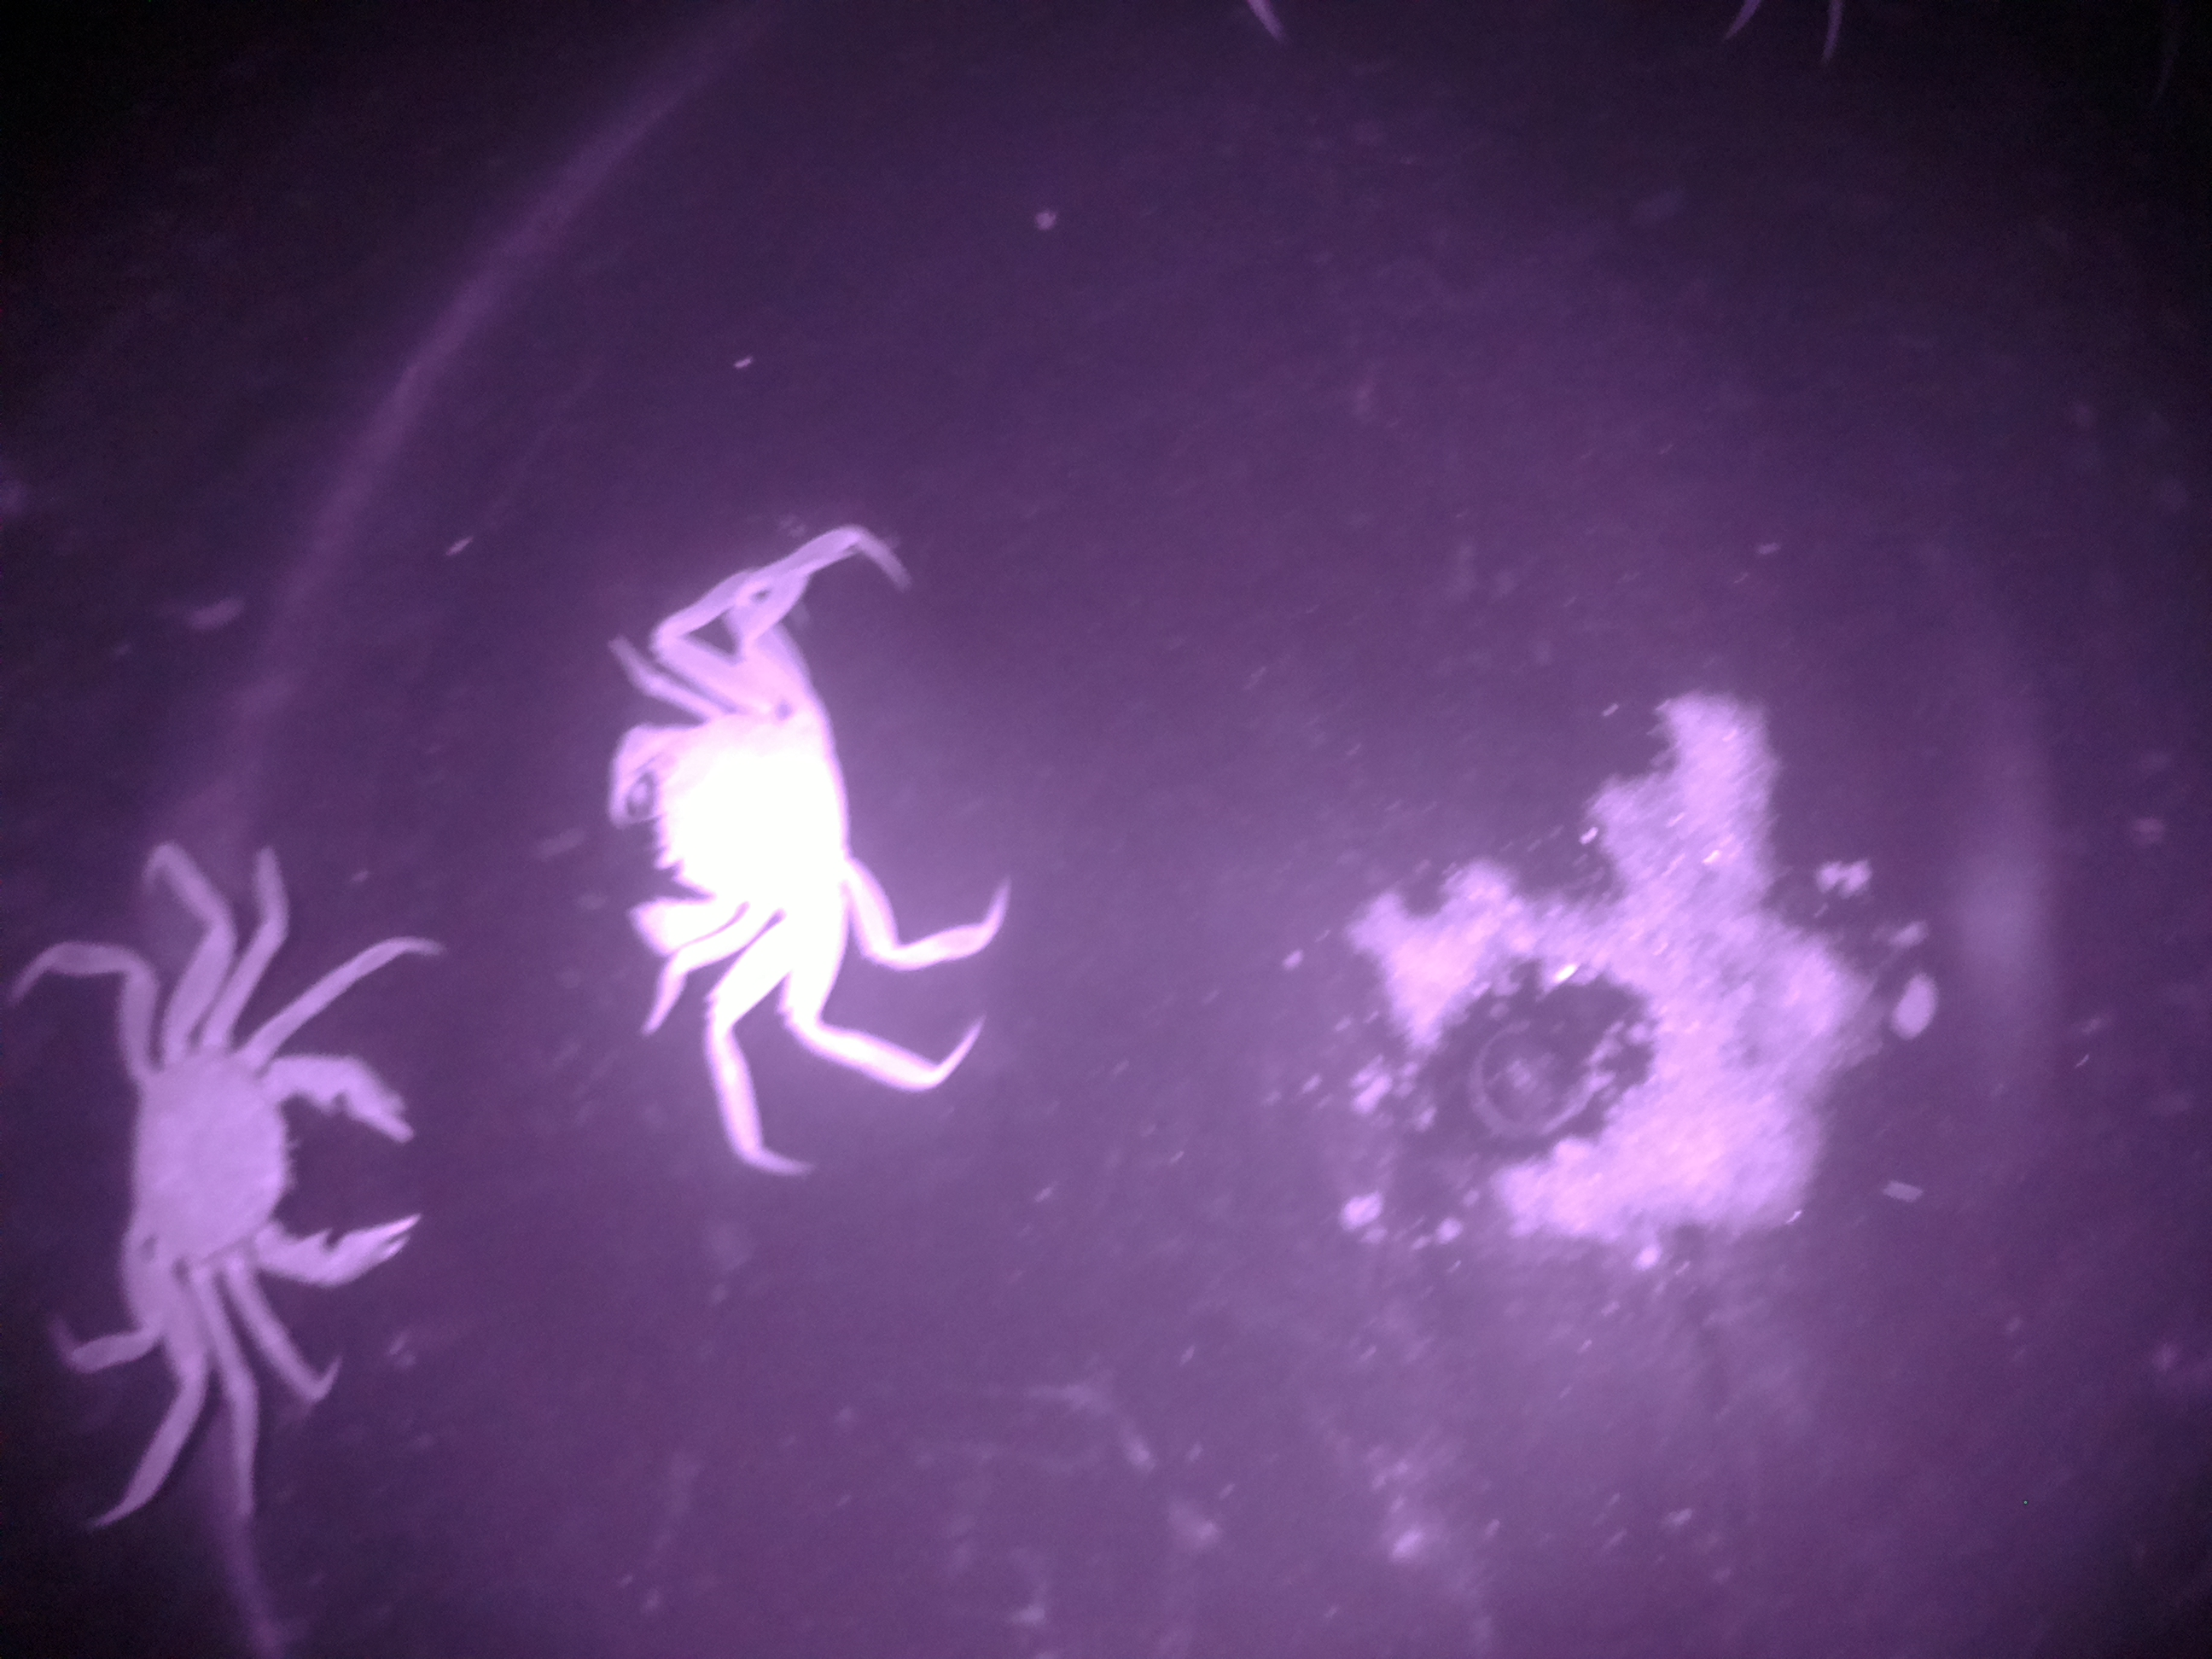Crab: (0, 917, 460, 1375), (566, 641, 982, 1063)
